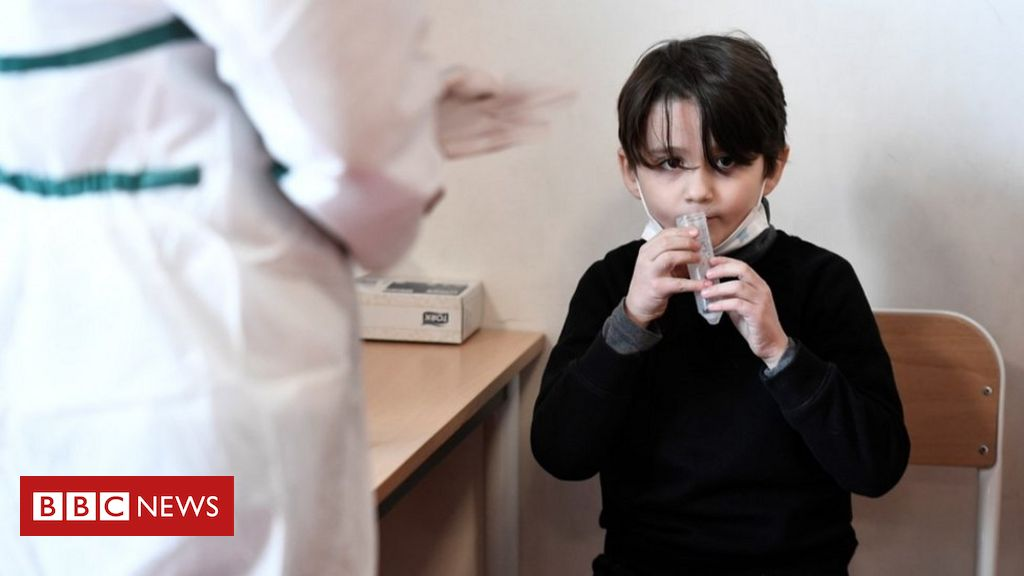mask_weared_incorrect: (630, 134, 769, 265)
